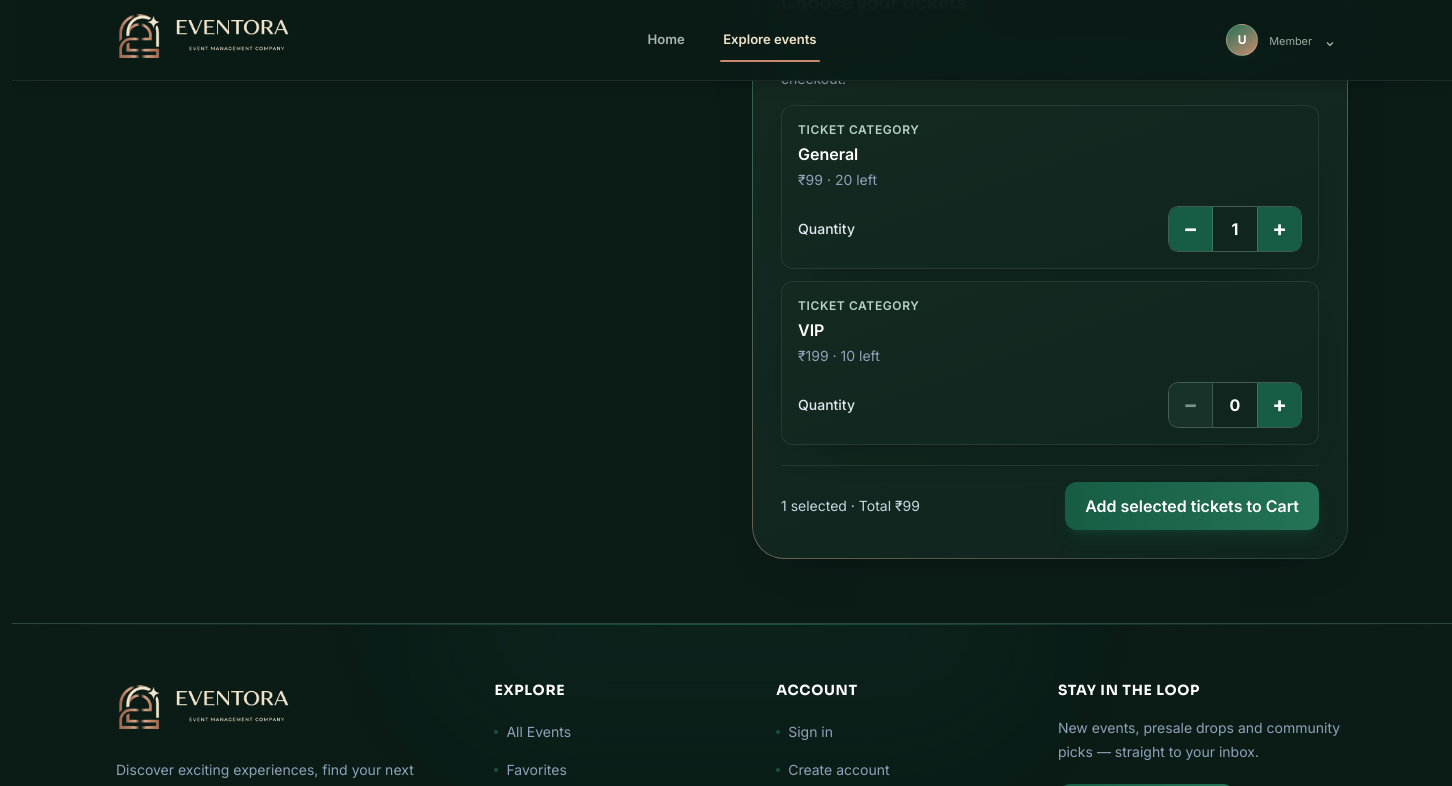
it: EventDetailsPage ticket selection › adds multiple ticket types to one cart item for a single checkout
(page scrolled)
Click the button named "Increase VIP quantity" at (1279, 405), box [1257,383,1301,427]
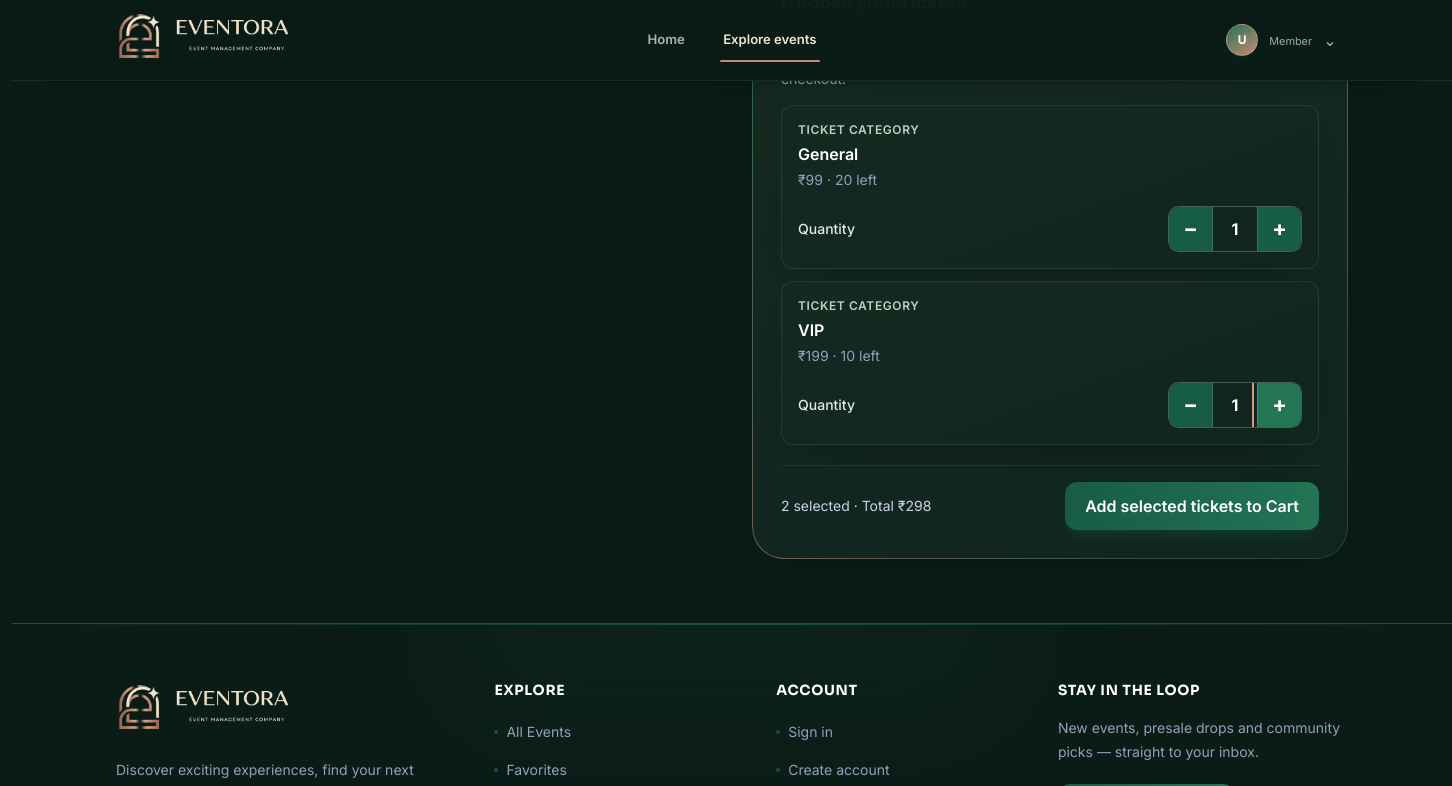
Result: the text "2 selected · Total ₹298" is shown at [781,496,931,516]
Click the button "Add selected tickets to Cart" at (1192, 506), box [1065,482,1319,530]
(page scrolled)
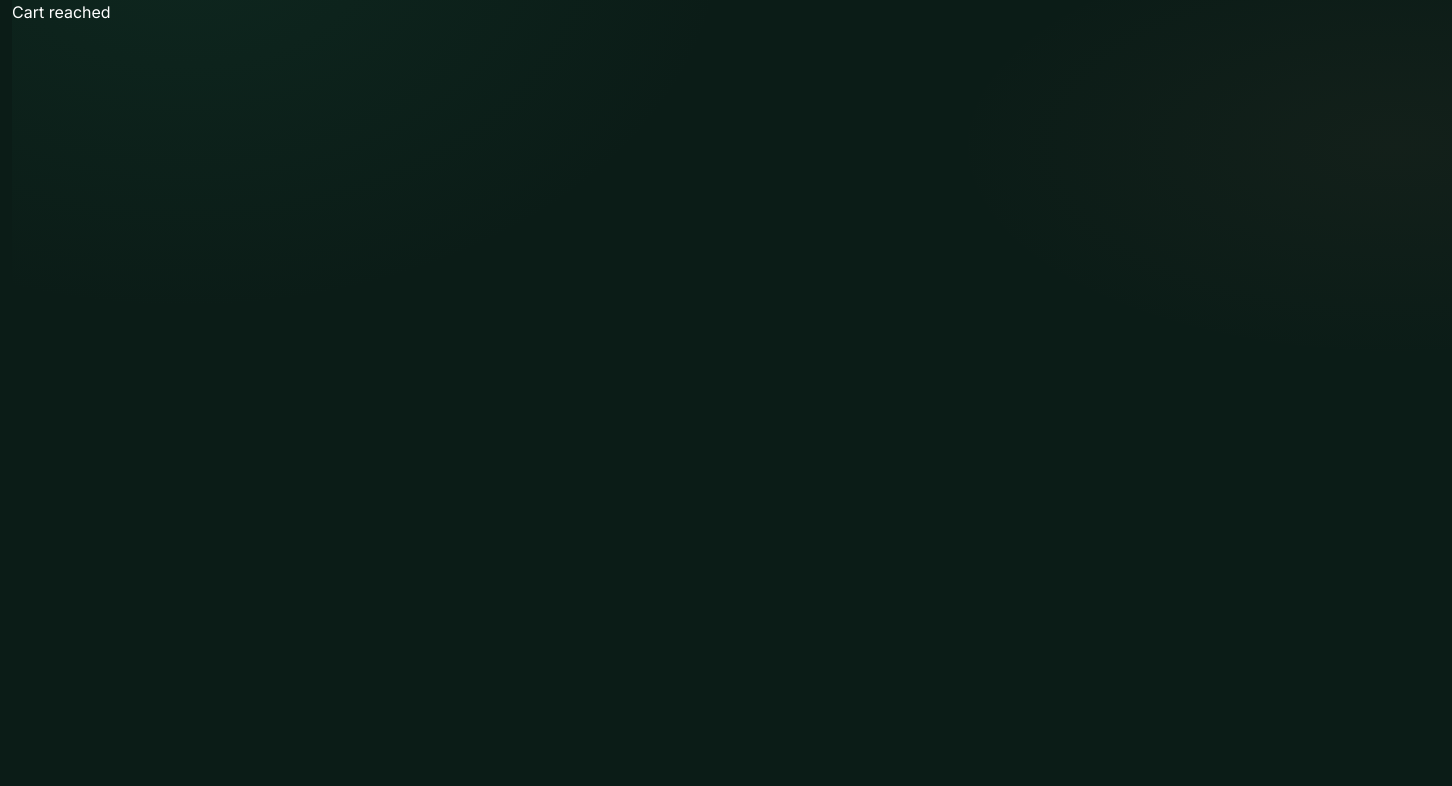
Result: the text "Cart reached" is shown at [12,2,111,22]
